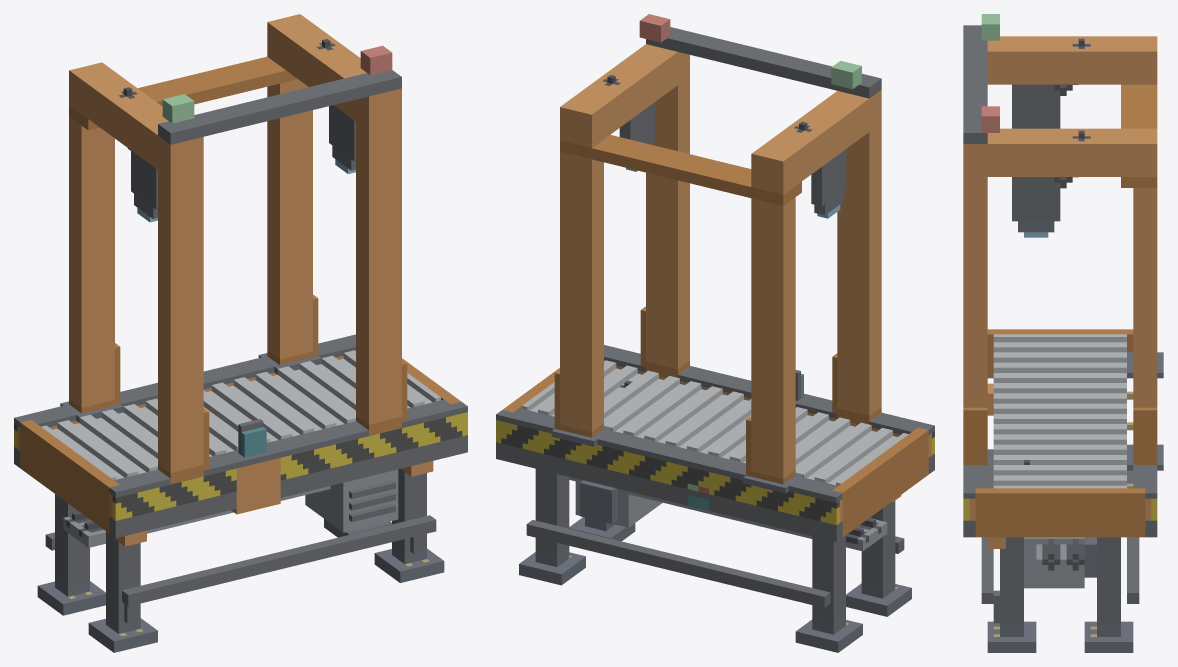
The model's file is conveyor_scanner.glb.
3 views of the same model, side by side, from view 1: azimuth 30°, elevation 25°; view 2: azimuth 150°, elevation 25°; view 3: azimuth 270°, elevation 25° (orthographic). The views are drawn at different scales.
Visible parts, largest first — view 1: conveyor_scanner; view 2: conveyor_scanner; view 3: conveyor_scanner.
Part boxes in pixels (x1,y1,x2,y2): conveyor_scanner: (14,14,467,652); conveyor_scanner: (496,14,934,652); conveyor_scanner: (963,14,1163,652).
Size of the model in its own units: 2 by 2.91 by 1.03.
